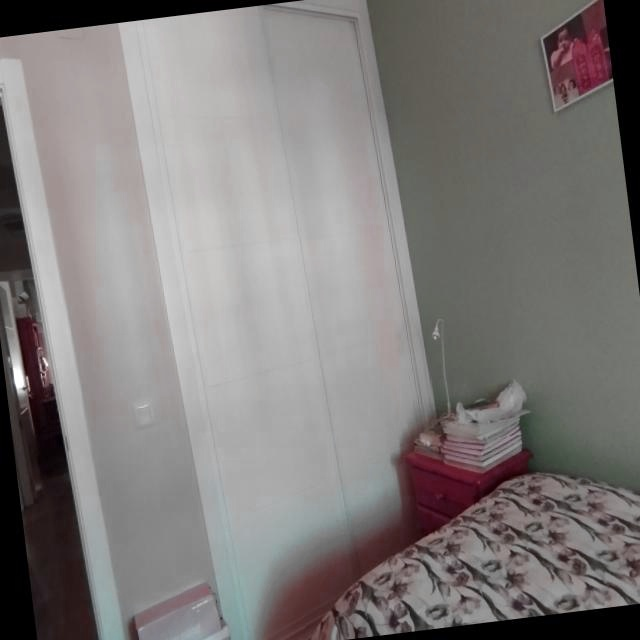bed: (310, 472, 640, 640)
lamp: (433, 319, 454, 420)
nighttable: (404, 447, 532, 537)
toilet: (112, 0, 434, 640)
